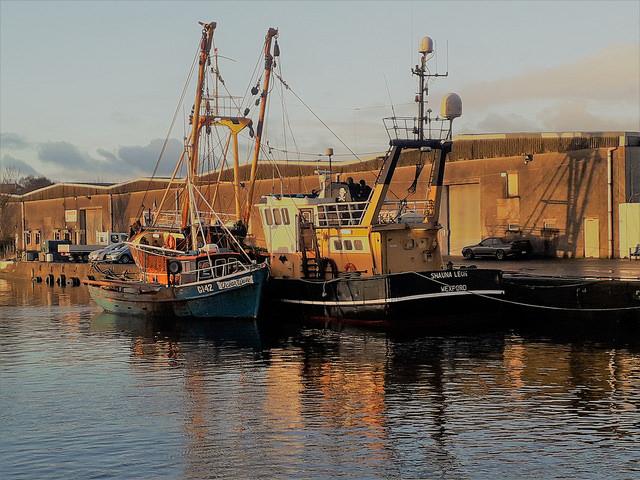fishing_boat: (260, 72, 503, 327), (81, 42, 264, 322)
